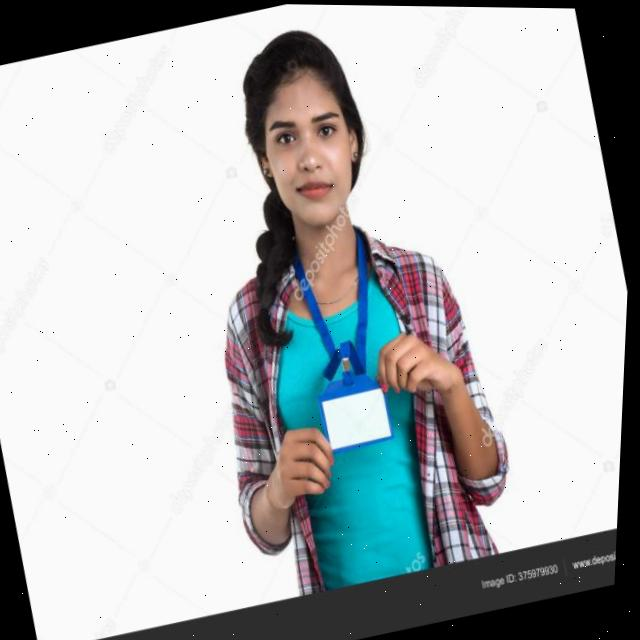id_card: (268, 227, 419, 463)
